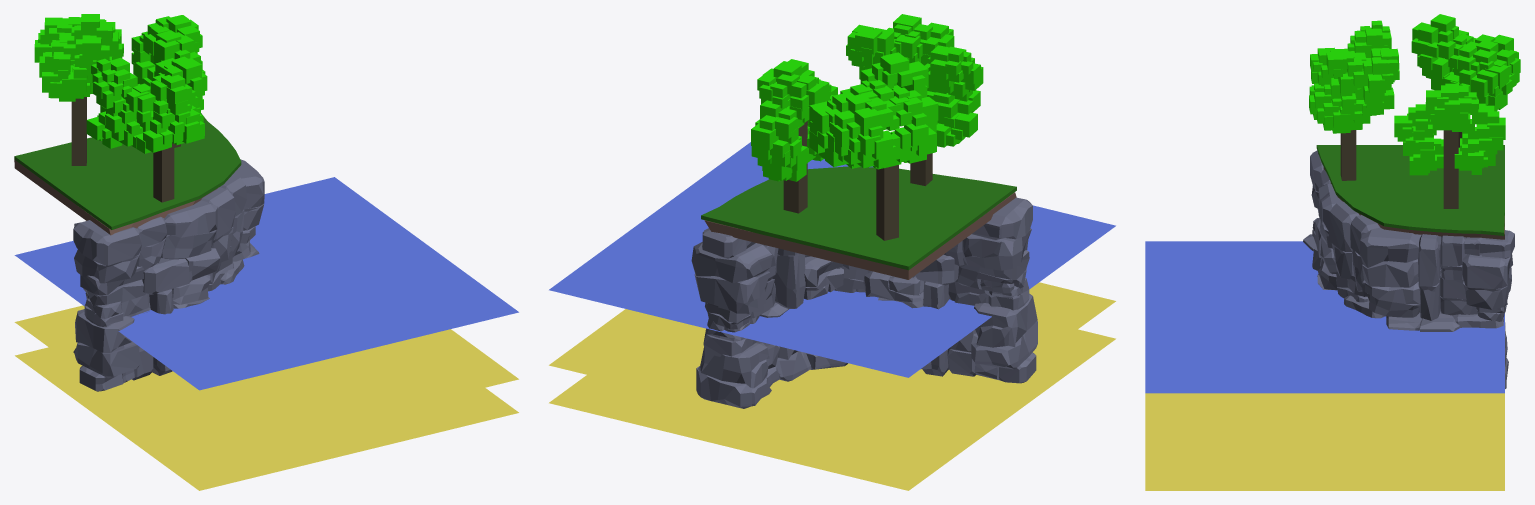
File: 34__tile.fbx
3 renders of one model, left to right at view 1: azimuth 30°, elevation 25°; view 2: azimuth 150°, elevation 25°; view 3: azimuth 270°, elevation 25°, orthographic. The views are drawn at different scales.
Visible parts, largest first — view 1: 34__tile; view 2: 34__tile; view 3: 34__tile.
Boxes of the visible parts, <box> form: 34__tile: <box>14,14,518,490</box>; 34__tile: <box>549,14,1115,490</box>; 34__tile: <box>1145,14,1520,490</box>.
Bounding box in the file's own units: 212 × 209 × 209.
